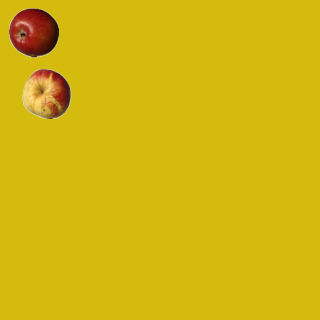Apple Braeburn: (8, 7, 58, 57)
Apple Red Yellow 1: (21, 68, 71, 118)
